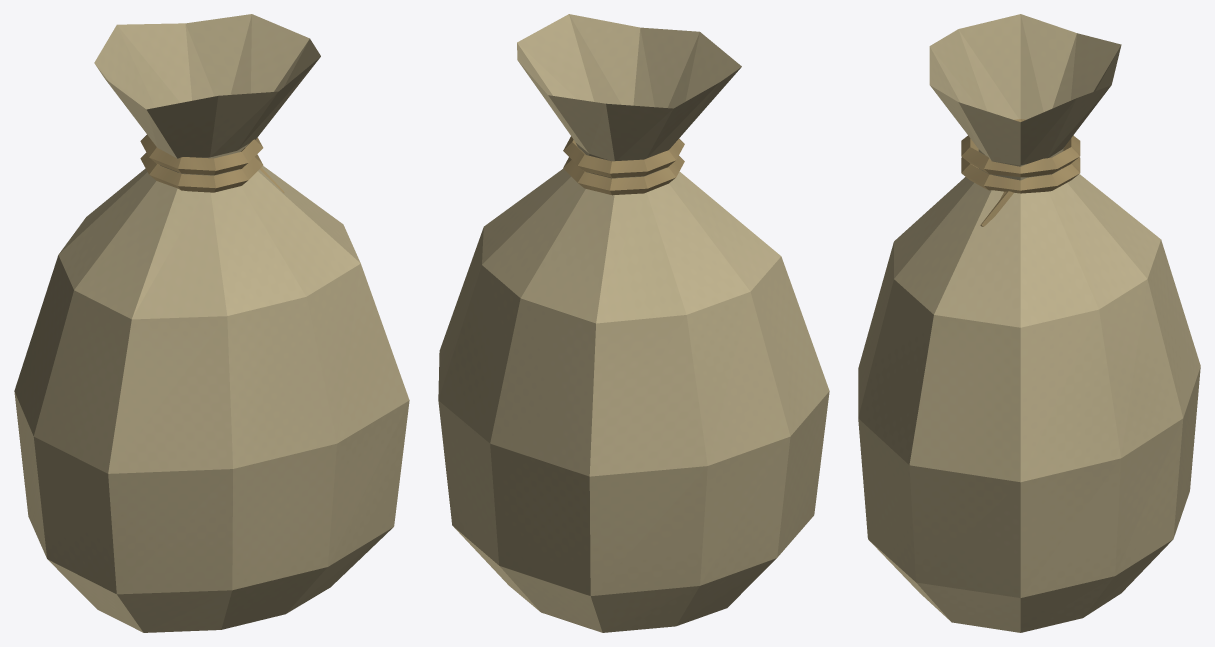
File: WarrensC_CCS68_ClothSack_Mars_SM.fbx
3 views of the same model, side by side, from view 1: azimuth 30°, elevation 25°; view 2: azimuth 150°, elevation 25°; view 3: azimuth 270°, elevation 25° (orthographic). The views are drawn at different scales.
Parts seen in each view (by area): view 1: WarrensC_CCS68_ClothSack_Mars_SM.001; view 2: WarrensC_CCS68_ClothSack_Mars_SM.001; view 3: WarrensC_CCS68_ClothSack_Mars_SM.001.
Part boxes in pixels (bbox=[...]): WarrensC_CCS68_ClothSack_Mars_SM.001: bbox=[14, 14, 409, 632]; WarrensC_CCS68_ClothSack_Mars_SM.001: bbox=[438, 14, 829, 632]; WarrensC_CCS68_ClothSack_Mars_SM.001: bbox=[858, 14, 1200, 632].
Size of the model in its own units: 70 by 60 by 100.
